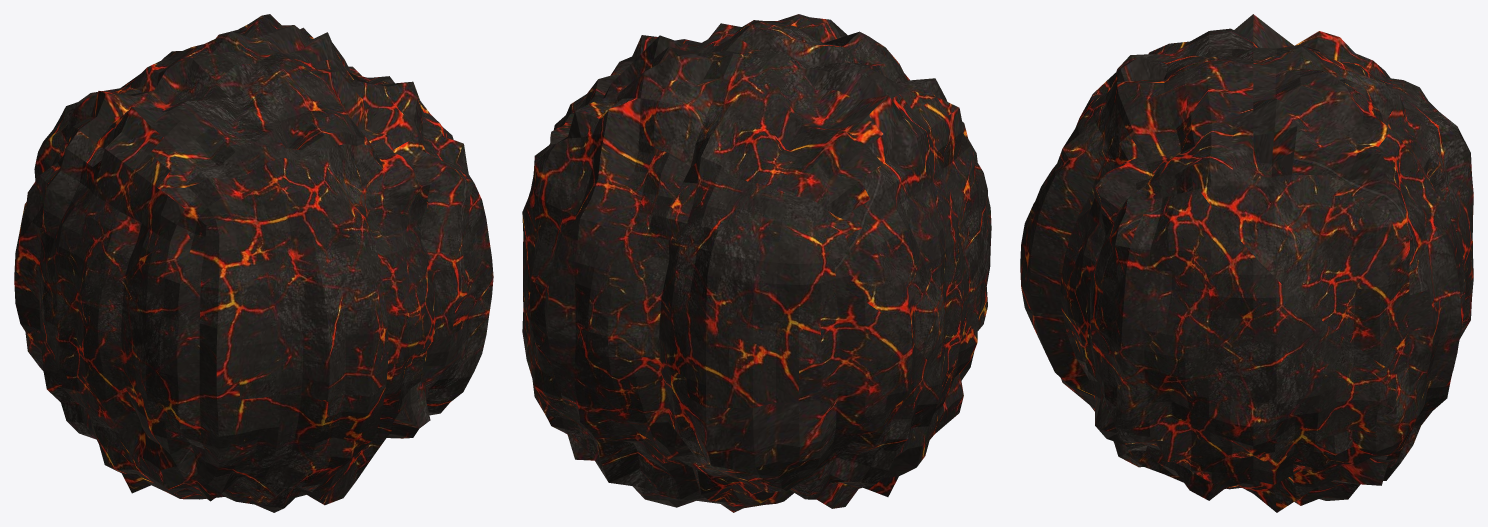
The model's file is asteroid115.obj.
3 views of the same model, side by side, from view 1: azimuth 30°, elevation 25°; view 2: azimuth 150°, elevation 25°; view 3: azimuth 270°, elevation 25° (orthographic). The views are drawn at different scales.
Parts seen in each view (by area): view 1: Cube_Cube.002; view 2: Cube_Cube.002; view 3: Cube_Cube.002.
Part boxes in pixels (<box>): Cube_Cube.002: <box>14,14,493,512</box>; Cube_Cube.002: <box>522,14,991,512</box>; Cube_Cube.002: <box>1020,14,1473,512</box>.
Size of the model in its own units: 1.77 by 1.87 by 1.76.
